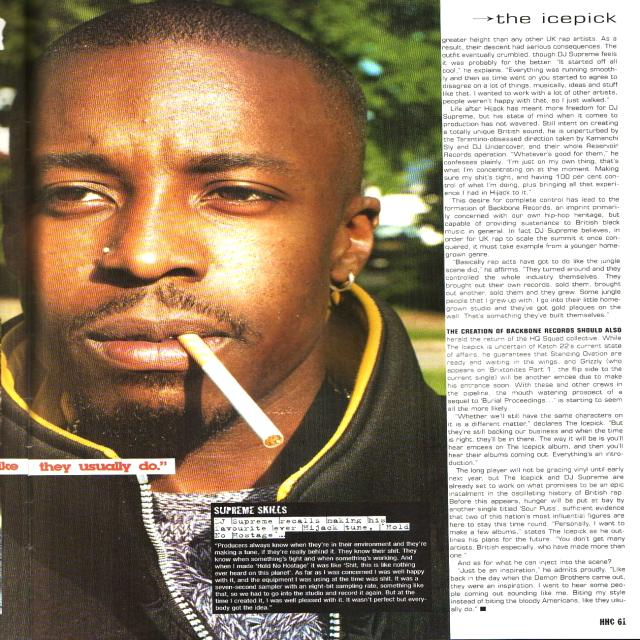Smooking: (175, 324, 315, 454)
